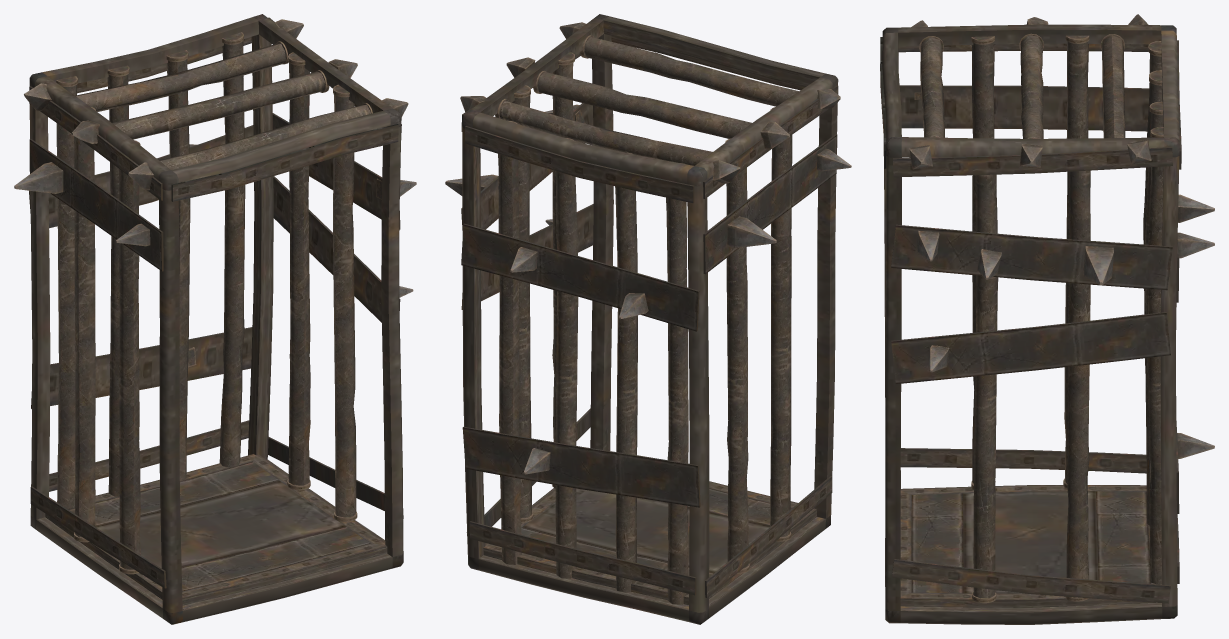
3 views of the same model, side by side, from view 1: azimuth 30°, elevation 25°; view 2: azimuth 150°, elevation 25°; view 3: azimuth 270°, elevation 25° (orthographic). The views are drawn at different scales.
Parts seen in each view (by area): view 1: SM_DR_Cage_01_LOD0; view 2: SM_DR_Cage_01_LOD0; view 3: SM_DR_Cage_01_LOD0.
Boxes of the visible parts, box(x1,y1,x2,y2) form: SM_DR_Cage_01_LOD0: box(14, 14, 416, 624); SM_DR_Cage_01_LOD0: box(445, 14, 851, 624); SM_DR_Cage_01_LOD0: box(880, 14, 1214, 624).
Size of the model in its own units: 1.87 by 2.47 by 1.54.
2 materials, 2 textured.
